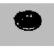correct: (12, 9, 42, 33)
